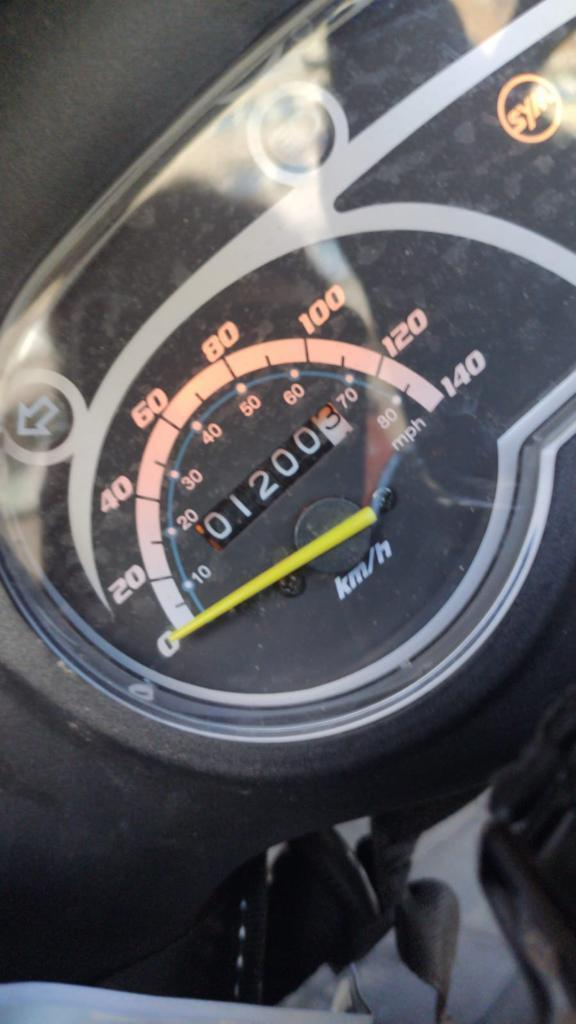0: (269, 447, 300, 478), (203, 510, 233, 541), (292, 426, 320, 455), (188, 468, 203, 483), (207, 422, 222, 437), (183, 508, 198, 522), (246, 395, 261, 409)
1: (227, 493, 252, 517)
2: (246, 470, 279, 501)
3: (315, 403, 340, 429)
4: (201, 430, 214, 445)
5: (239, 401, 253, 417)
odometer: (190, 400, 356, 553)
